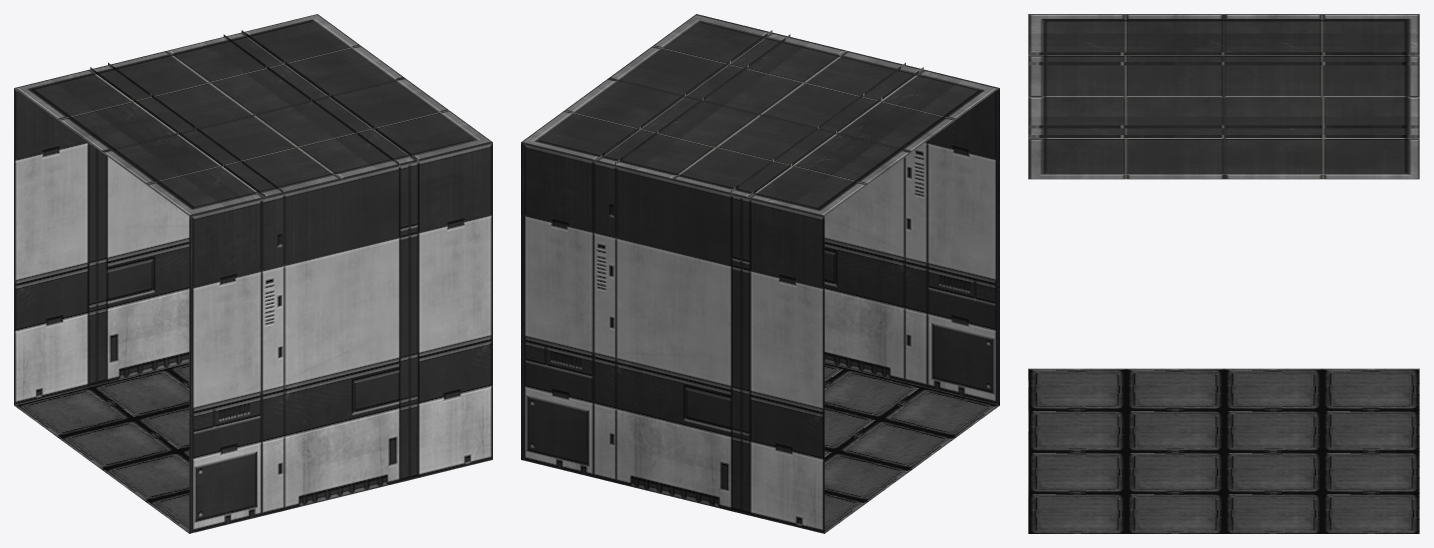
The model's file is CorridorMain1.fbx.
The picture shows the model from 3 angles, left to right: view 1: azimuth 30°, elevation 25°; view 2: azimuth 150°, elevation 25°; view 3: azimuth 270°, elevation 25°; orthographic projection. The views are drawn at different scales.
Visible parts, largest first — view 1: CorridorMain1; view 2: CorridorMain1; view 3: CorridorMain1.
Part boxes in pixels (x1,y1,x2,y2): CorridorMain1: (14, 14, 492, 533); CorridorMain1: (521, 14, 999, 533); CorridorMain1: (1028, 14, 1419, 533).
Size of the model in its own units: 5 by 5.04 by 5.
